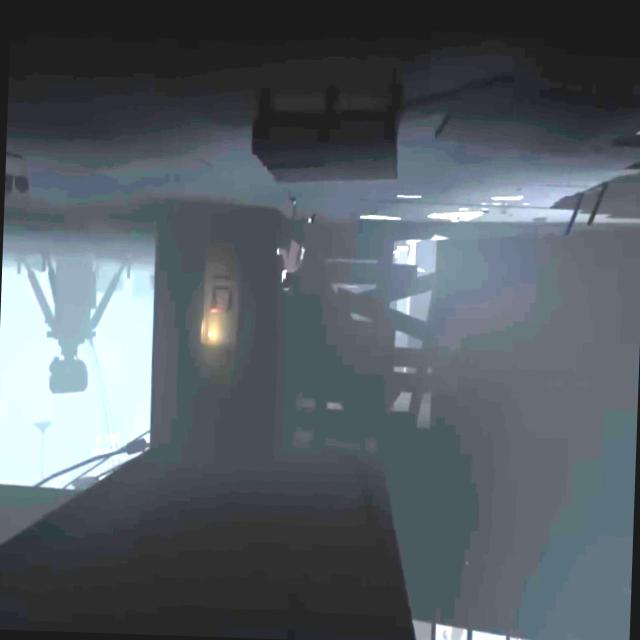boy: (275, 196, 316, 292), (522, 158, 532, 162)
